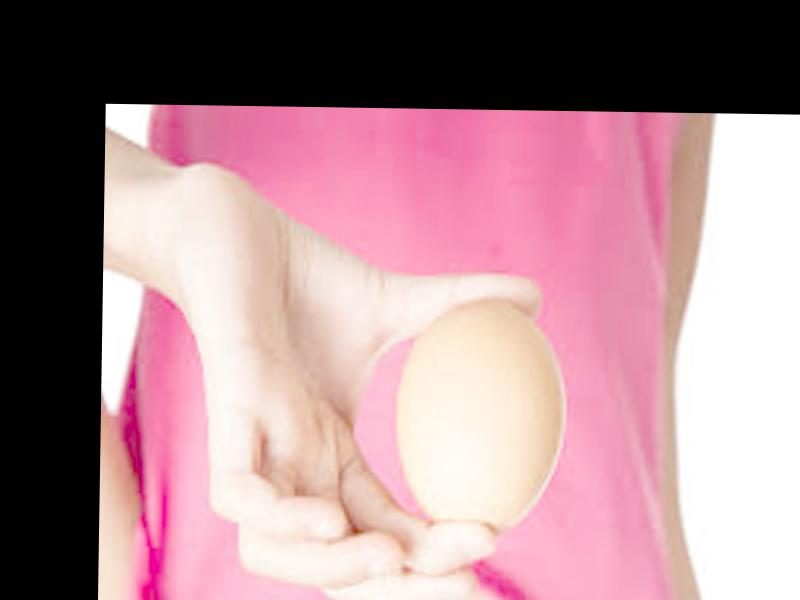Eggs: (395, 301, 564, 539)
